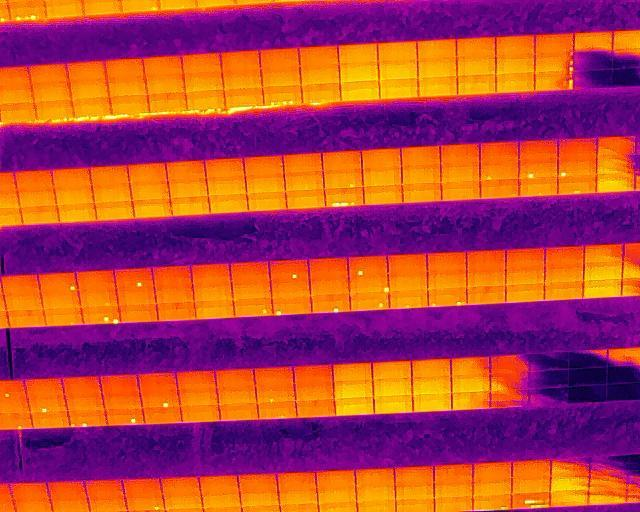Cell: (269, 261, 308, 281), (348, 257, 387, 277), (115, 269, 153, 289), (389, 290, 428, 309), (38, 272, 76, 291), (350, 293, 390, 311), (324, 170, 363, 188), (234, 299, 273, 317), (273, 297, 312, 315), (558, 177, 596, 195), (311, 295, 349, 313), (480, 163, 519, 180), (558, 159, 596, 176), (107, 409, 144, 426), (256, 386, 295, 402), (140, 391, 179, 407), (519, 163, 558, 179), (29, 397, 67, 413), (349, 277, 389, 292), (124, 497, 165, 511), (473, 495, 511, 510)
Cell-Multi: (8, 0, 47, 21), (428, 287, 466, 307), (263, 86, 302, 105), (535, 72, 573, 90), (81, 307, 120, 324), (68, 410, 106, 427), (535, 55, 573, 72), (512, 493, 550, 509)
No-Anomaly: (428, 251, 467, 274), (558, 137, 597, 160), (14, 170, 54, 192), (468, 250, 506, 273), (506, 248, 545, 270), (230, 261, 269, 283), (480, 141, 519, 163), (52, 168, 91, 189), (260, 49, 299, 70), (167, 160, 206, 181), (519, 140, 558, 161), (440, 143, 479, 164), (209, 193, 249, 213), (152, 266, 192, 286), (161, 477, 201, 497), (362, 148, 402, 168), (417, 40, 457, 60), (596, 172, 634, 193), (247, 191, 286, 211), (171, 196, 210, 216), (403, 182, 442, 202), (128, 163, 167, 183), (496, 36, 535, 56), (192, 265, 231, 285), (388, 255, 427, 275), (309, 258, 348, 278), (506, 283, 545, 303), (283, 153, 322, 173), (583, 279, 622, 299), (545, 281, 584, 301), (395, 466, 434, 486), (322, 152, 361, 172), (401, 146, 440, 166), (512, 461, 551, 481), (221, 51, 260, 71), (300, 64, 339, 84), (299, 46, 338, 66), (0, 275, 41, 294), (6, 309, 47, 328), (44, 308, 85, 327), (204, 159, 245, 178), (95, 202, 135, 221), (133, 199, 173, 218), (123, 478, 161, 498), (84, 480, 124, 499), (41, 290, 81, 309), (144, 57, 182, 77), (182, 55, 222, 74), (378, 42, 418, 61), (338, 44, 378, 63), (442, 181, 481, 200), (277, 473, 316, 492), (545, 247, 584, 266), (58, 204, 97, 223), (364, 185, 403, 204), (402, 165, 441, 184), (363, 167, 402, 186), (574, 33, 613, 52), (374, 395, 413, 414), (413, 393, 452, 412), (76, 270, 115, 289), (372, 360, 411, 379), (294, 365, 333, 384), (255, 367, 294, 386), (10, 482, 49, 501), (411, 359, 450, 378), (451, 357, 490, 376), (195, 300, 234, 319), (79, 288, 118, 307), (356, 468, 395, 487), (434, 464, 473, 483), (340, 81, 379, 100), (302, 83, 341, 102), (418, 76, 457, 95), (67, 62, 106, 81), (106, 60, 145, 79), (456, 38, 495, 57), (63, 377, 100, 397), (200, 476, 241, 494), (206, 177, 247, 195), (535, 35, 573, 54), (310, 276, 348, 295), (452, 392, 490, 411), (25, 379, 63, 398), (467, 286, 505, 305), (73, 96, 111, 115), (245, 175, 285, 193), (244, 157, 284, 175), (108, 79, 148, 97), (222, 71, 262, 89), (339, 63, 379, 81), (101, 375, 138, 394), (480, 180, 519, 198), (238, 474, 277, 492), (21, 206, 60, 224), (316, 470, 355, 488), (286, 190, 325, 208), (90, 167, 129, 185), (45, 0, 84, 18), (505, 267, 544, 285), (335, 398, 374, 416), (545, 266, 584, 284), (334, 380, 373, 398), (333, 363, 372, 381), (216, 369, 255, 387), (157, 303, 196, 321), (48, 482, 87, 500), (441, 164, 480, 182), (473, 463, 512, 481), (70, 81, 109, 99), (32, 83, 71, 101), (379, 80, 418, 98), (496, 74, 535, 92), (378, 61, 417, 79), (168, 180, 209, 197), (297, 399, 335, 417), (468, 270, 506, 288), (390, 273, 428, 291), (139, 373, 177, 391), (178, 371, 216, 389), (120, 305, 158, 323), (155, 285, 193, 303), (457, 75, 495, 93), (29, 66, 67, 84), (130, 183, 170, 200), (17, 190, 57, 207), (92, 185, 132, 202), (284, 173, 324, 190), (193, 284, 233, 301), (117, 289, 157, 306), (271, 281, 311, 298), (184, 74, 224, 91), (261, 69, 301, 86), (585, 245, 622, 263), (36, 100, 73, 118), (54, 188, 93, 205), (428, 271, 467, 288), (451, 375, 490, 392), (412, 377, 451, 394), (373, 379, 412, 396), (295, 383, 334, 400), (550, 490, 589, 507), (186, 91, 225, 108), (110, 96, 149, 113), (224, 89, 263, 106), (418, 60, 457, 77), (496, 55, 535, 72), (457, 58, 496, 75), (519, 179, 557, 196), (220, 404, 258, 421), (181, 405, 219, 422), (584, 263, 622, 280), (233, 283, 271, 300), (148, 93, 186, 110), (145, 76, 183, 93), (239, 491, 279, 507), (278, 490, 318, 506), (3, 295, 43, 311), (144, 407, 181, 424), (180, 388, 217, 405), (473, 480, 512, 496), (217, 387, 256, 403), (317, 488, 356, 504), (434, 482, 473, 498), (31, 413, 69, 429), (258, 403, 296, 419), (104, 393, 141, 409), (551, 476, 590, 491), (434, 497, 473, 512), (395, 485, 434, 500), (357, 487, 396, 502), (162, 495, 203, 509), (512, 479, 550, 494), (66, 396, 103, 411), (203, 493, 240, 508)
Shadowing: (528, 368, 570, 390), (527, 350, 569, 371), (597, 135, 637, 157), (569, 382, 609, 403), (529, 386, 570, 406), (569, 366, 609, 386), (569, 349, 609, 368), (574, 69, 612, 89), (596, 156, 635, 175), (574, 52, 614, 70), (490, 391, 529, 409), (490, 373, 529, 391), (490, 355, 529, 373), (551, 459, 590, 477), (588, 489, 626, 505), (589, 476, 627, 490)
Unclassified: (324, 188, 363, 206)
